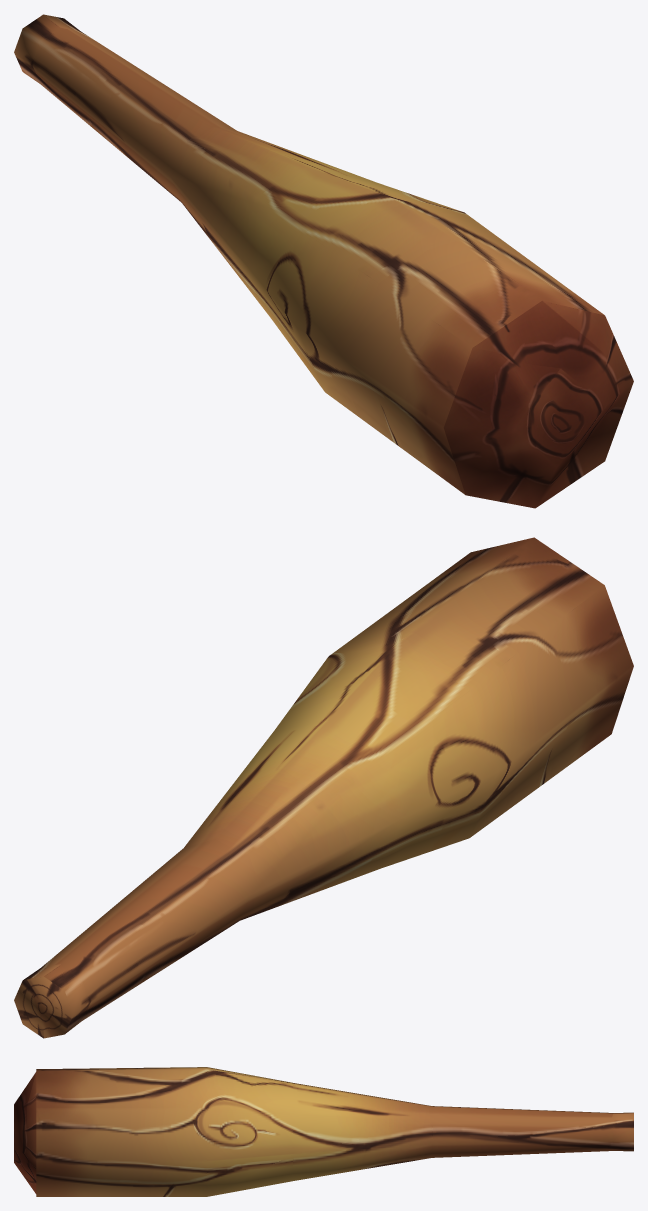
Rendered from club.fbx.
3 views of the same model, one above another, from view 1: azimuth 30°, elevation 25°; view 2: azimuth 150°, elevation 25°; view 3: azimuth 270°, elevation 25° (orthographic). The views are drawn at different scales.
Visible parts, largest first — view 1: Circle; view 2: Circle; view 3: Circle.
Part boxes in pixels (<box>): Circle: <box>14,14,633,508</box>; Circle: <box>14,537,633,1038</box>; Circle: <box>14,1067,633,1196</box>.
Size of the model in its own units: 15.96 by 15.96 by 71.56.
Materials: 1 (1 with a texture image).
